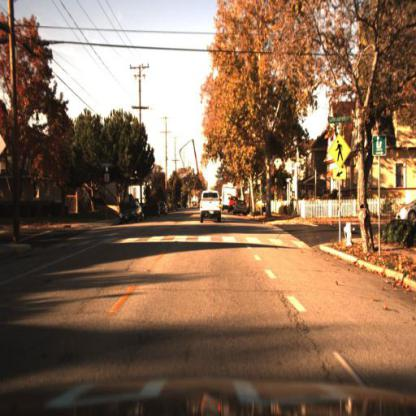car: (198, 188, 227, 228), (118, 199, 145, 226), (233, 199, 249, 218), (155, 200, 170, 217)
truck: (221, 181, 238, 217)
